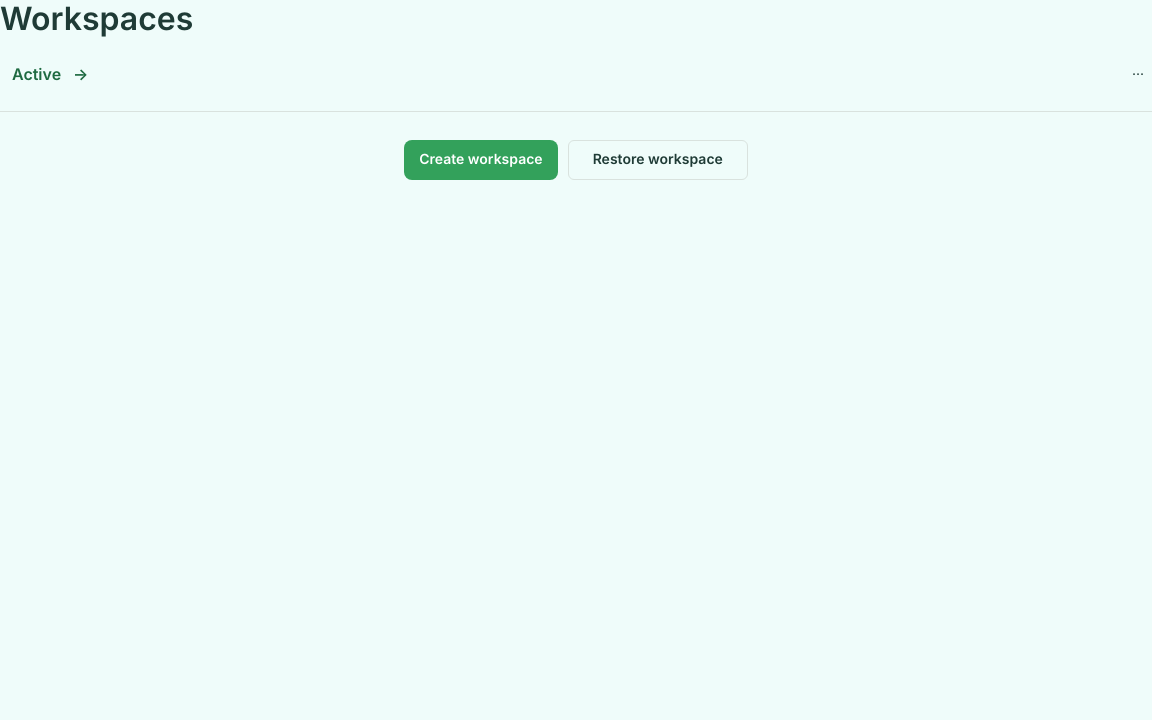
Test case: Workspace management › resolves the next active Workspace after an archive mutation
Click the button named "Actions for Active" at {"x": 1138, "y": 75}, box [1124,60,1151,90]
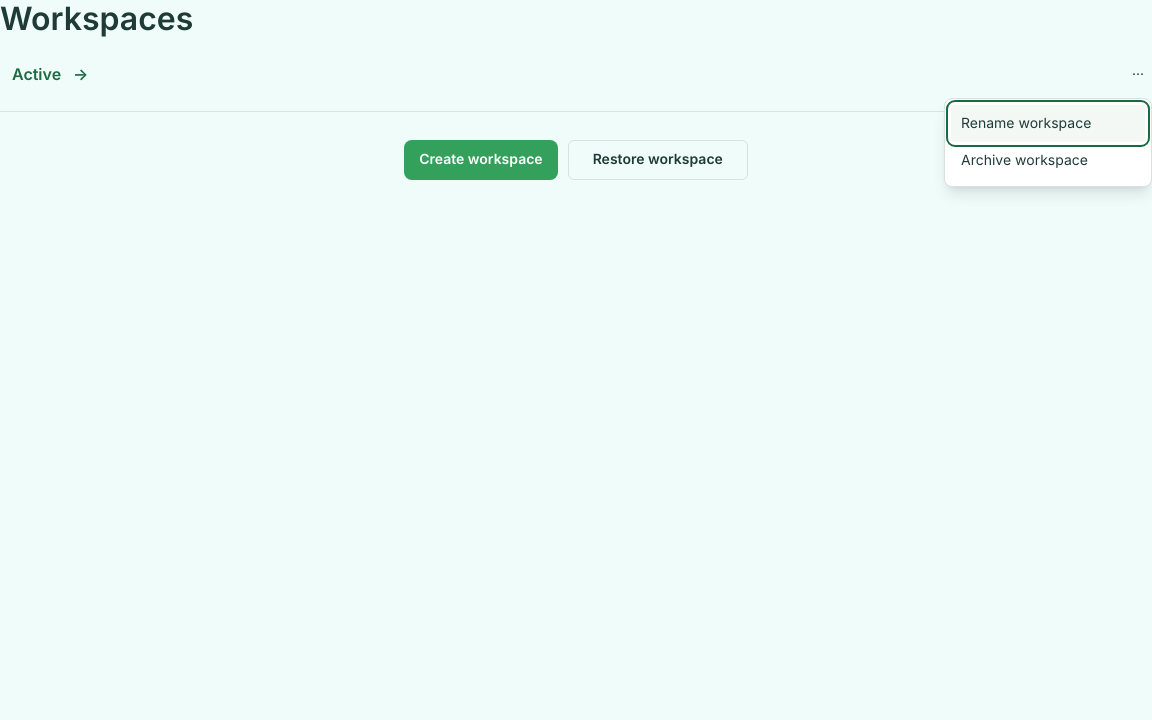
Click the menu item "Archive workspace" at {"x": 1048, "y": 161}, box [951,142,1145,180]
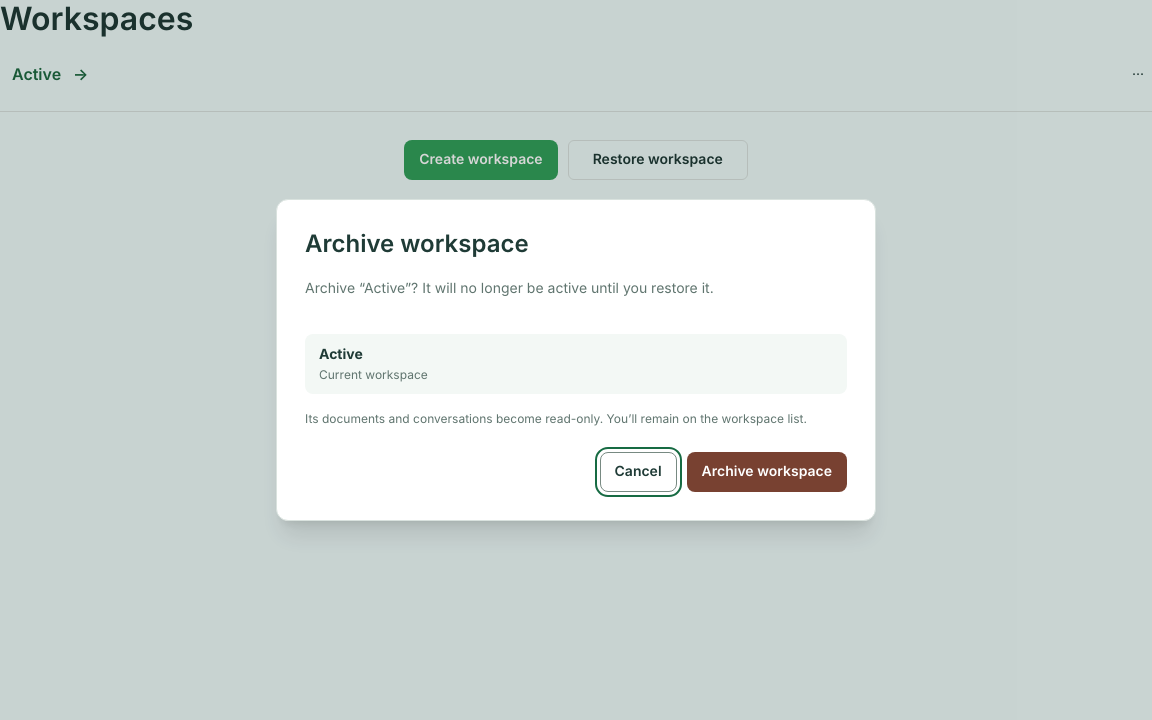
Click the button "Archive workspace" at {"x": 767, "y": 472}, box [687,452,847,492]
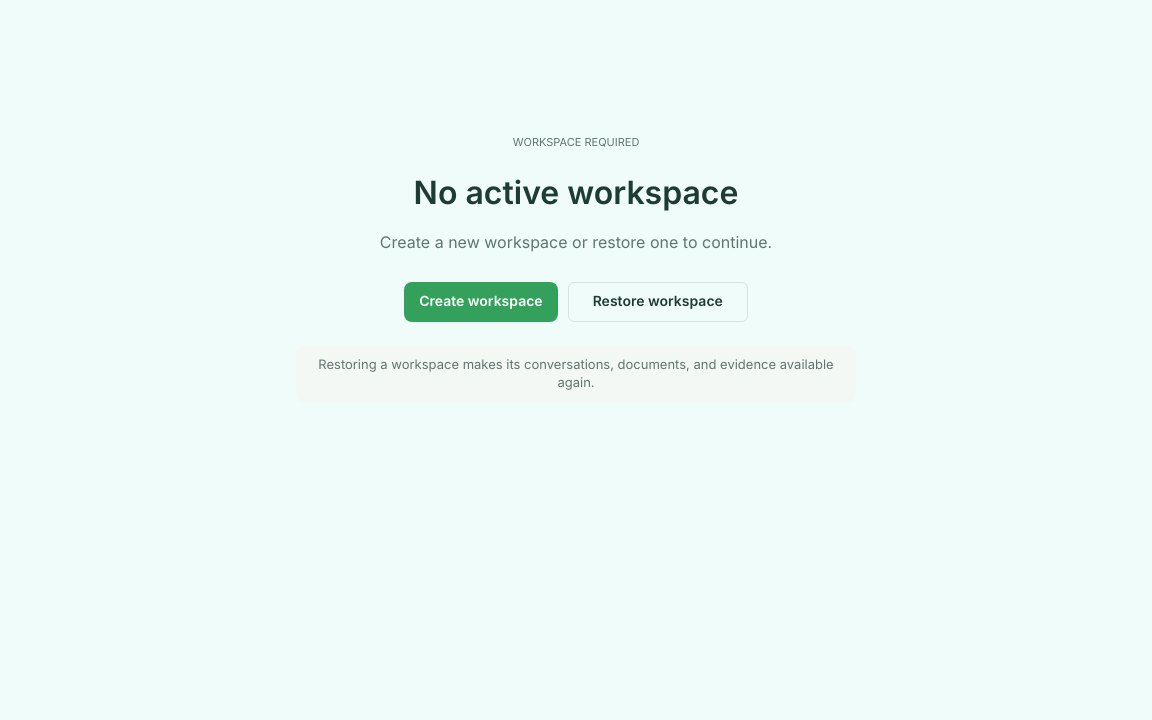
Expected: the heading "No active workspace" is shown, [414,172,738,214]
